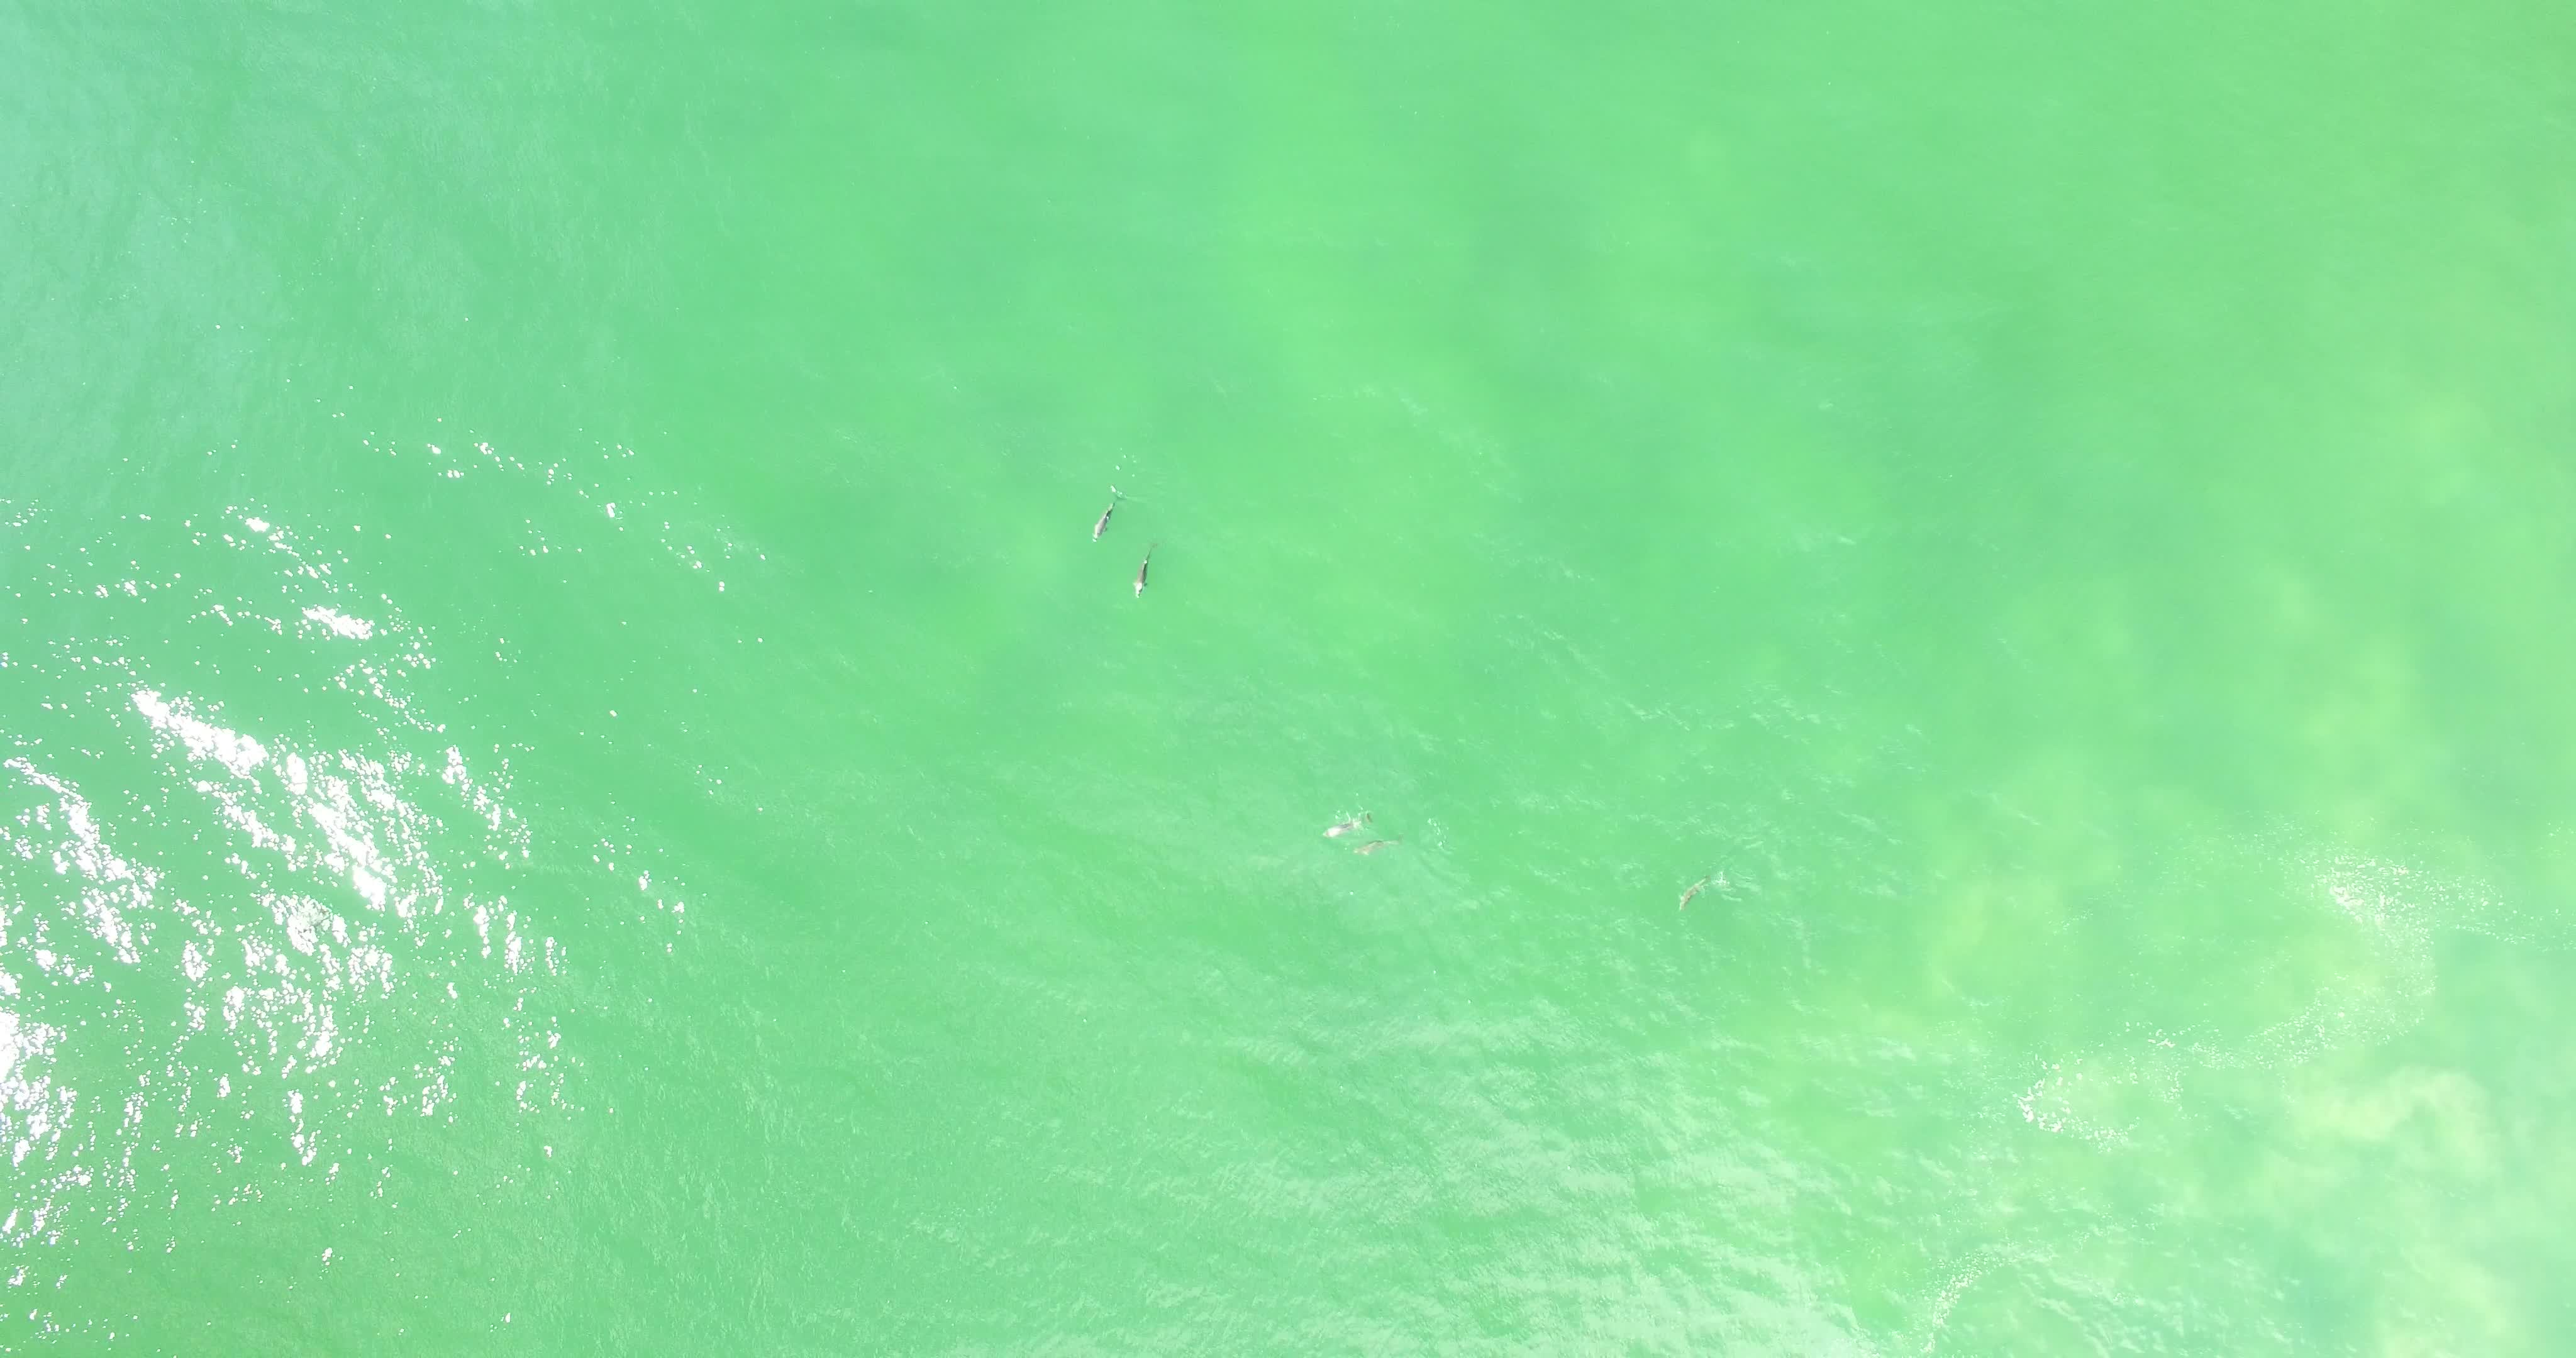dolphin: (1063, 463, 1131, 552), (1106, 503, 1160, 613), (1656, 855, 1738, 918), (1305, 780, 1377, 843), (1339, 823, 1402, 857)
